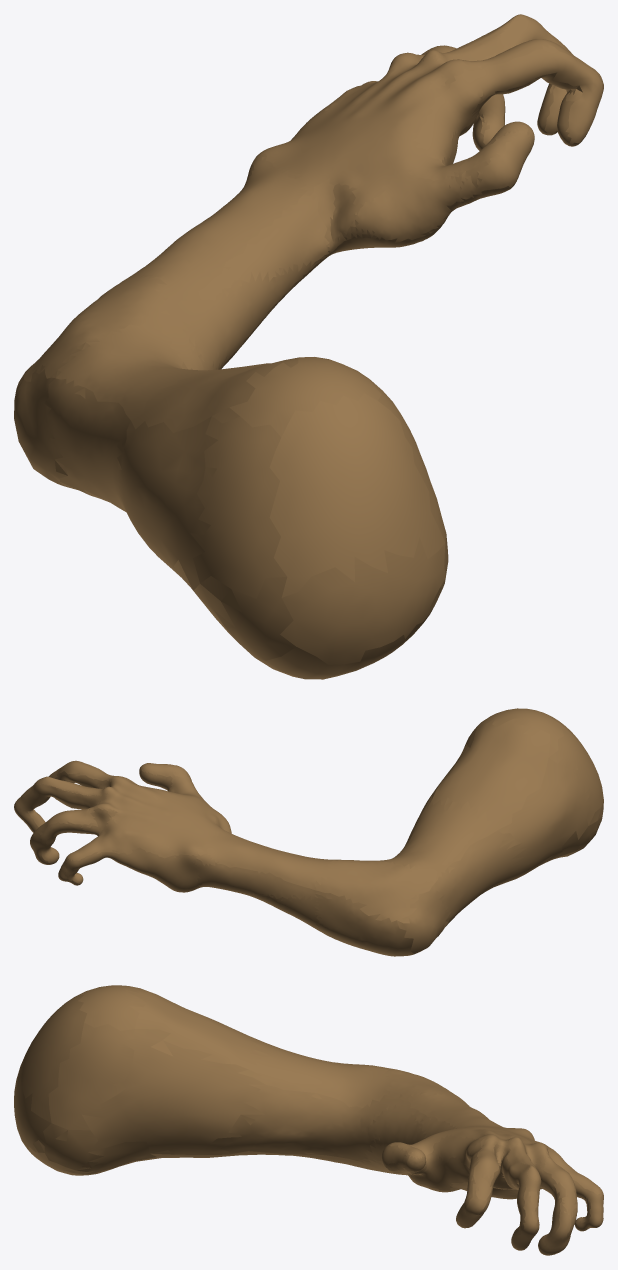
The model's file is realhand.fbx.
3 renders of one model, top to bottom at view 1: azimuth 30°, elevation 25°; view 2: azimuth 150°, elevation 25°; view 3: azimuth 270°, elevation 25°, orthographic. The views are drawn at different scales.
Visible parts, largest first — view 1: _null_; view 2: _null_; view 3: _null_.
Part boxes in pixels (bbox=[...]): _null_: bbox=[14, 14, 603, 679]; _null_: bbox=[14, 708, 603, 956]; _null_: bbox=[14, 985, 603, 1255].
Size of the model in its own units: 800 by 292 by 886.
